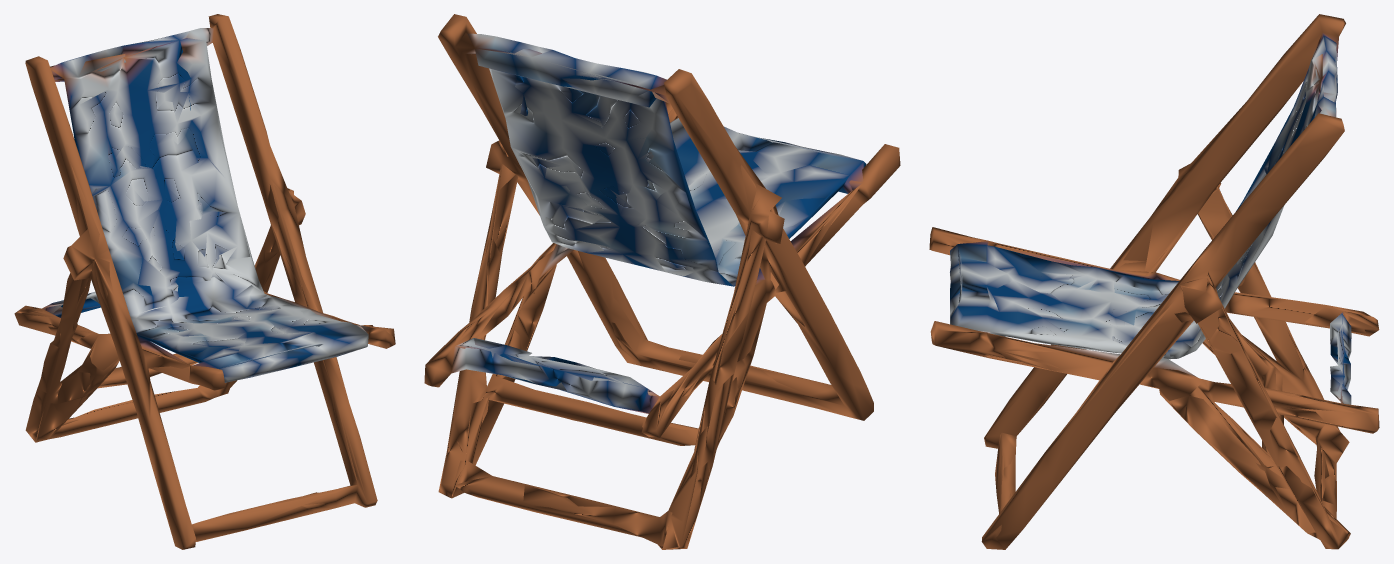
Rendered from gen3d-beach-chair-lod0.glb.
The picture shows the model from 3 angles, left to right: view 1: azimuth 30°, elevation 25°; view 2: azimuth 150°, elevation 25°; view 3: azimuth 270°, elevation 25°; orthographic projection. The views are drawn at different scales.
Visible parts, largest first — view 1: part_0; view 2: part_0; view 3: part_0.
Boxes of the visible parts, x1,y1,x2,y2 form: part_0: (14, 14, 395, 549); part_0: (424, 14, 900, 549); part_0: (929, 14, 1379, 549).
Size of the model in its own units: 0.6193 by 0.9963 by 0.9406.
